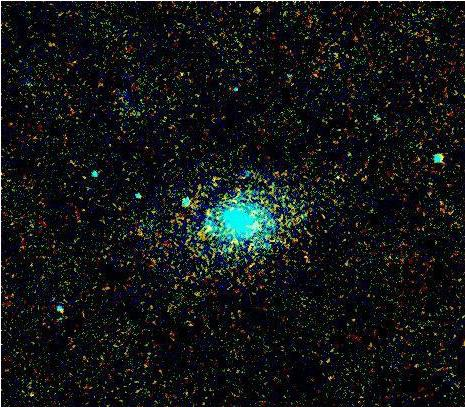star: (238, 0, 268, 23)
